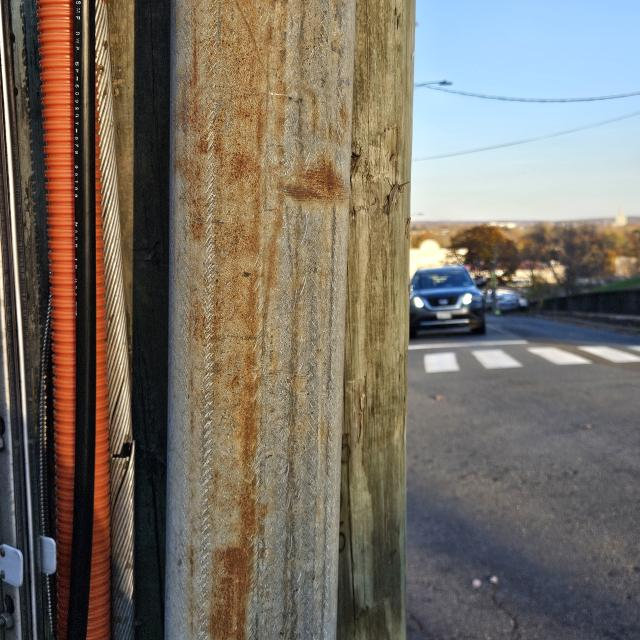Uniform Corrosion: (172, 1, 360, 640)
